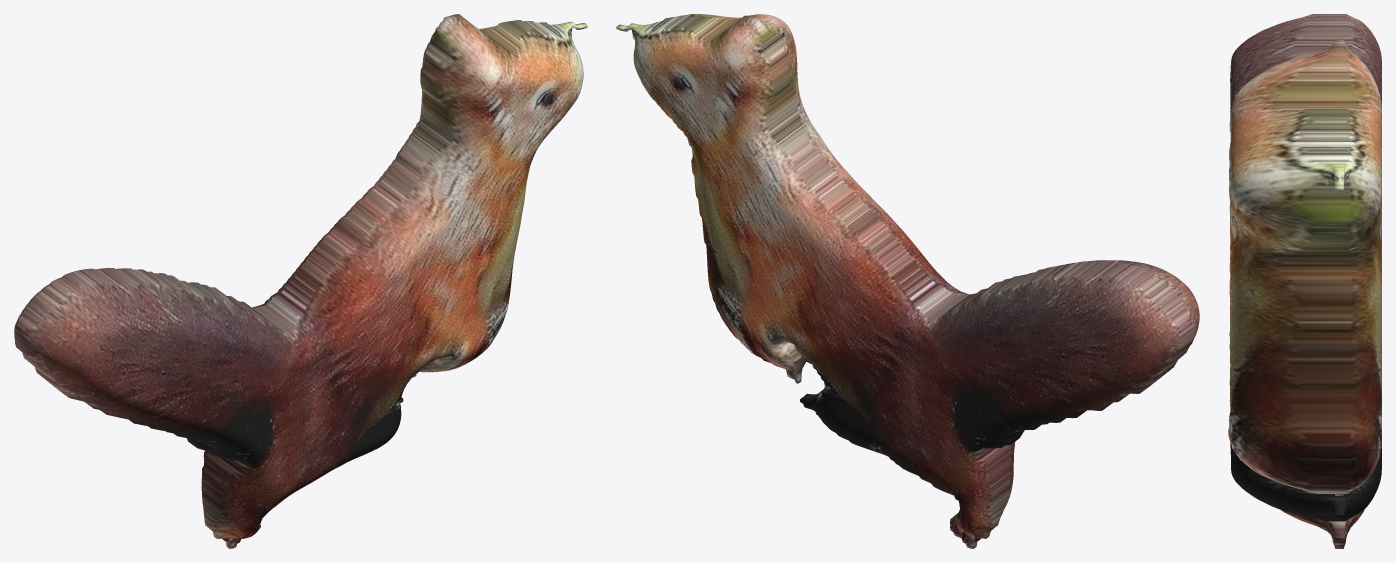
File: red_squirrel_171989381.glb
3 views of the same model, side by side, from view 1: azimuth 30°, elevation 25°; view 2: azimuth 150°, elevation 25°; view 3: azimuth 270°, elevation 25° (orthographic). The views are drawn at different scales.
Parts seen in each view (by area): view 1: red_squirrel_171989381; view 2: red_squirrel_171989381; view 3: red_squirrel_171989381.
Part boxes in pixels (bbox=[...]): red_squirrel_171989381: bbox=[14, 14, 587, 548]; red_squirrel_171989381: bbox=[616, 14, 1199, 548]; red_squirrel_171989381: bbox=[1228, 14, 1381, 548].
Bounding box in the file's own units: 1.94 × 1.55 × 0.333.
1 material, 1 textured.
